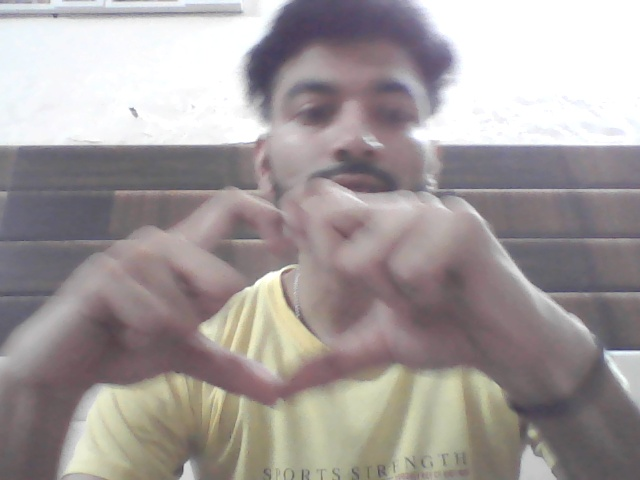Iloveyou: (60, 179, 553, 417)
